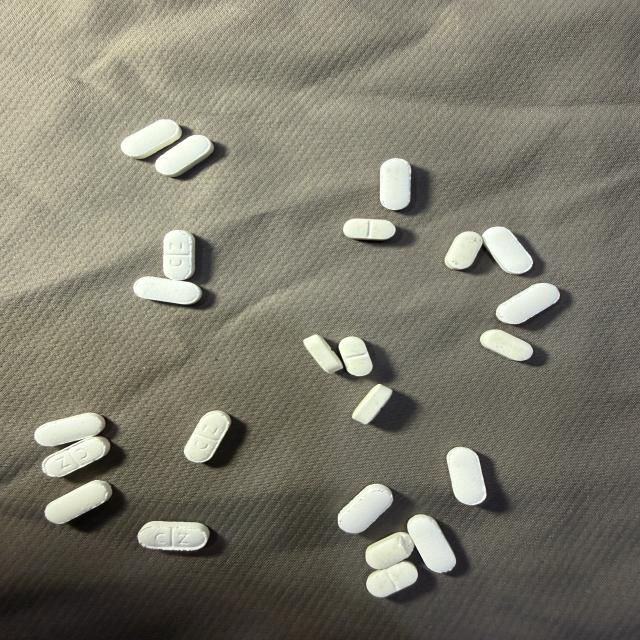pill: (45, 480, 112, 523), (42, 437, 110, 477), (338, 484, 393, 533), (408, 515, 455, 572), (496, 283, 559, 324), (184, 411, 231, 462), (156, 135, 213, 177), (121, 120, 181, 159), (35, 413, 105, 446), (483, 227, 532, 274), (447, 447, 486, 505), (138, 521, 209, 551), (134, 277, 201, 304), (367, 561, 417, 597), (366, 532, 414, 569), (480, 330, 533, 361), (380, 158, 411, 210), (352, 384, 392, 424), (164, 230, 194, 280), (304, 335, 343, 373), (445, 232, 482, 269), (339, 337, 372, 376), (343, 219, 395, 240)
